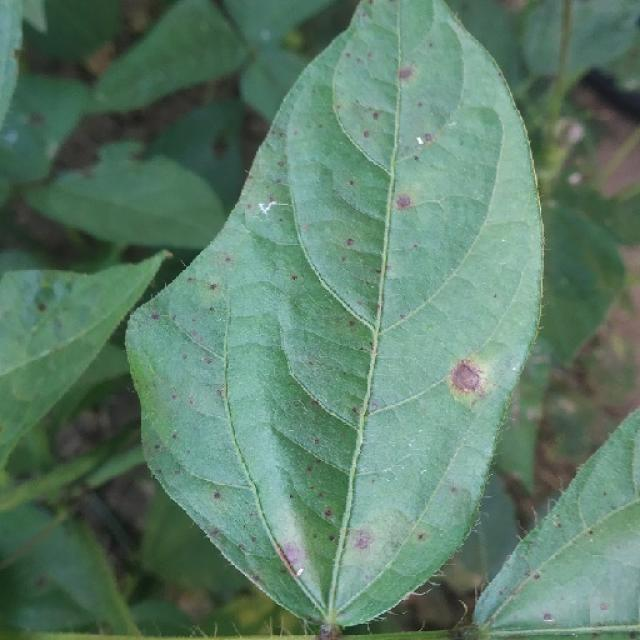Blackgram: (126, 0, 542, 625), (279, 607, 442, 639), (435, 352, 489, 406), (399, 124, 448, 163), (348, 98, 391, 136), (270, 538, 304, 579), (347, 527, 377, 553), (198, 276, 226, 302), (317, 622, 342, 640), (393, 193, 413, 209), (398, 66, 415, 80), (542, 611, 554, 621), (323, 509, 332, 518), (150, 312, 160, 320), (213, 491, 221, 500), (346, 238, 354, 246), (224, 256, 232, 263), (291, 275, 298, 281)
